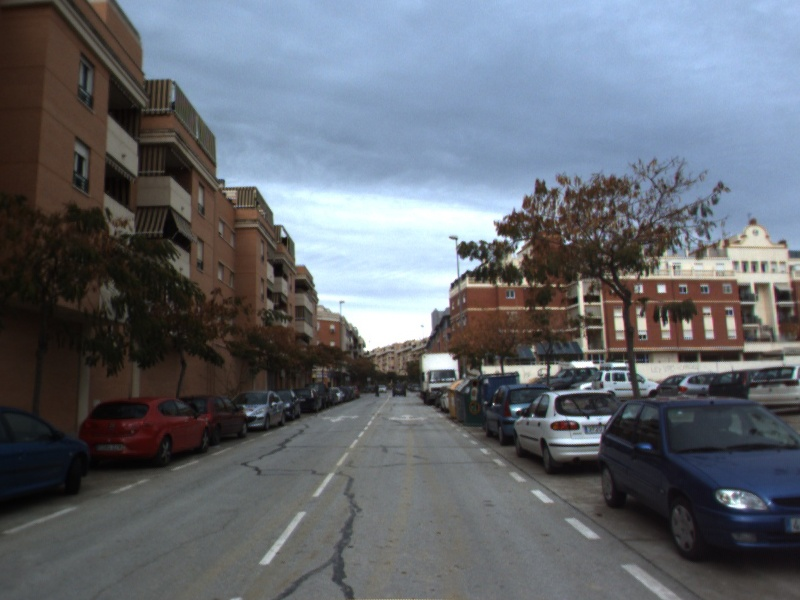STRAIGHT_LEFT_RIGHT: (387, 411, 430, 423)
